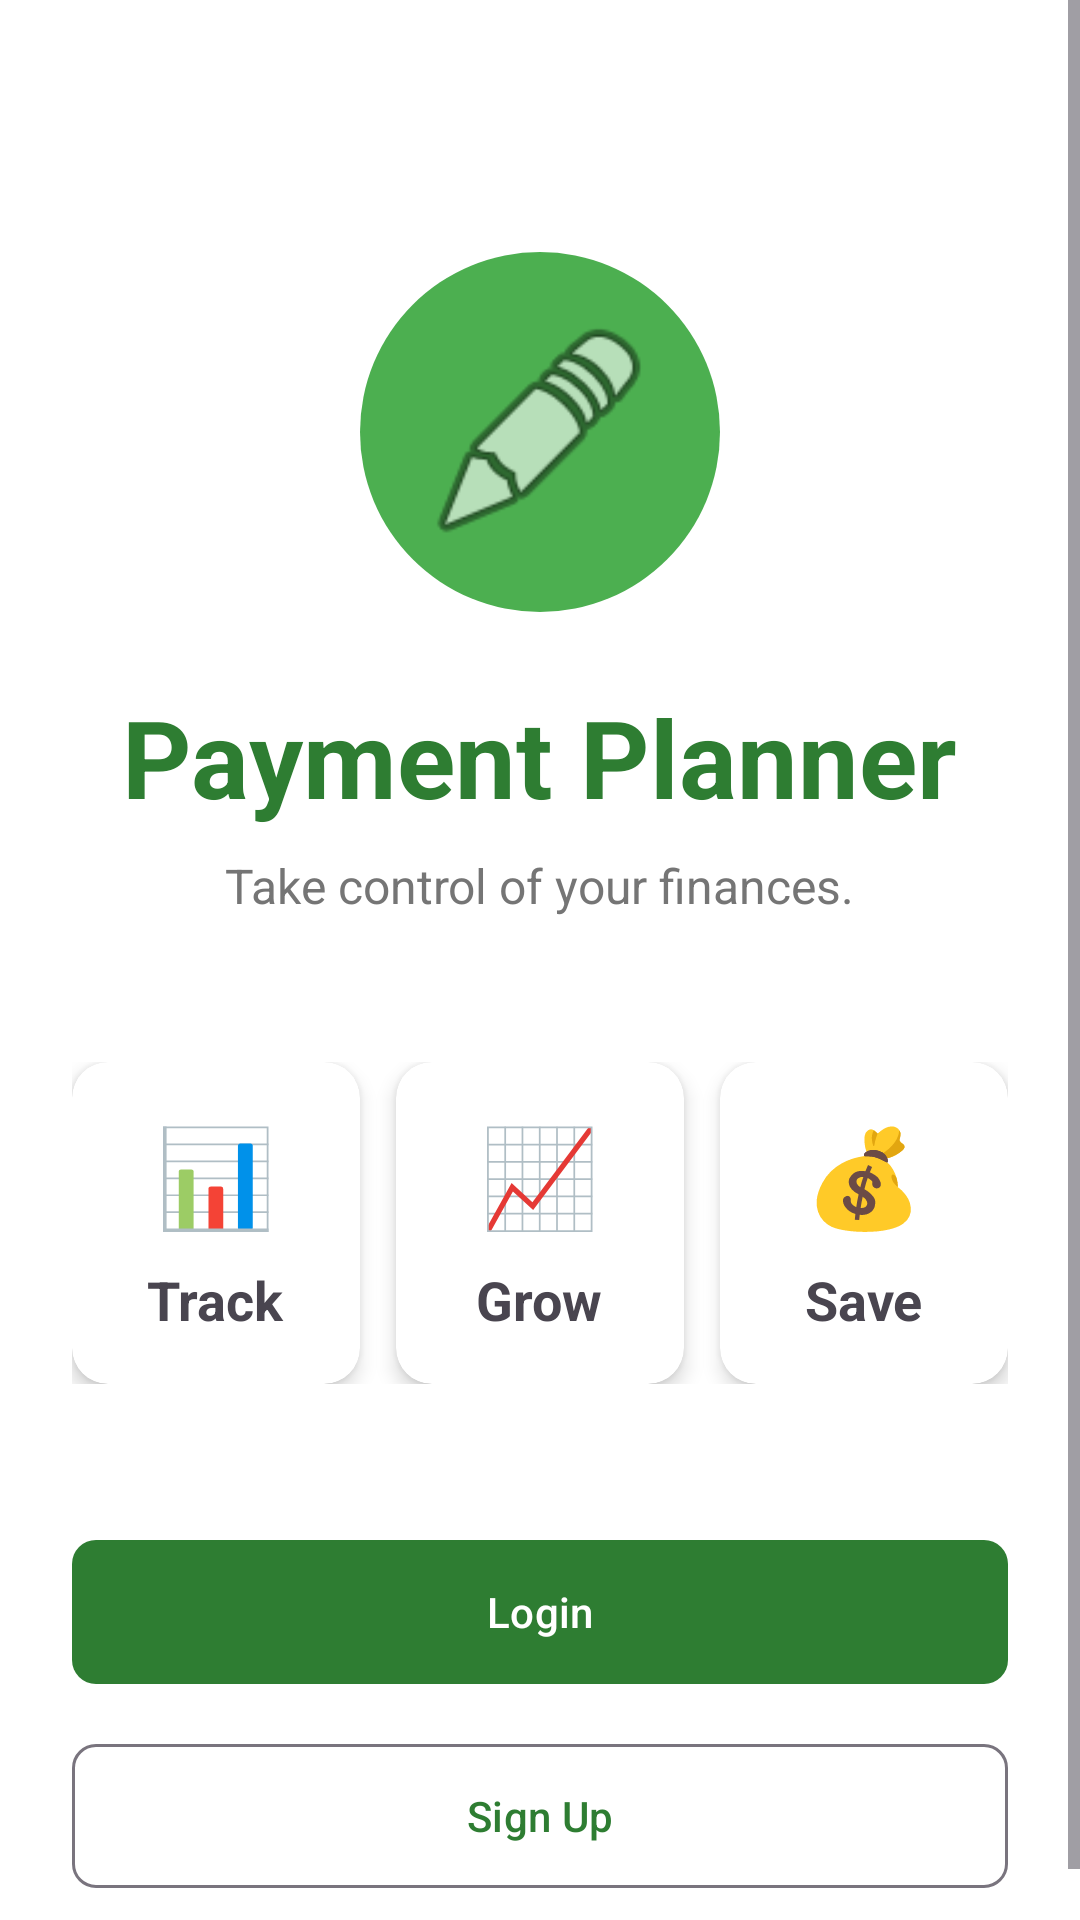

Where icons sit on this 1080 × 1920 app screen, as (x1, y1, x2, y2):
edit: (360, 252, 720, 612)
